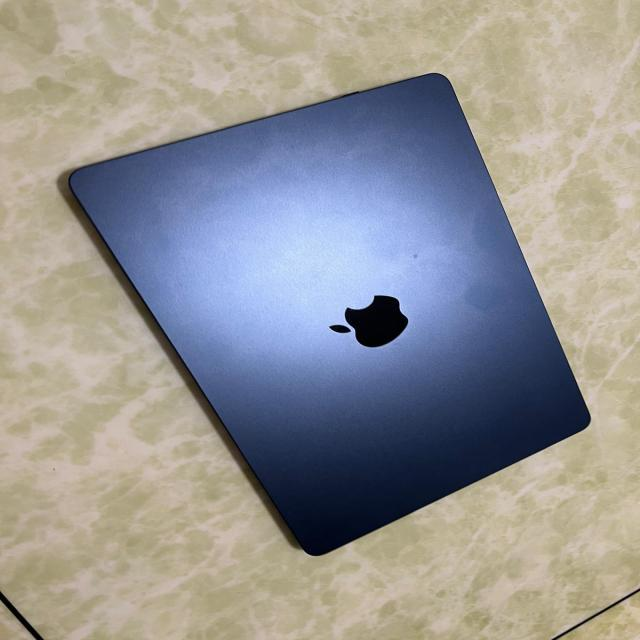laptop: (66, 71, 591, 556)
